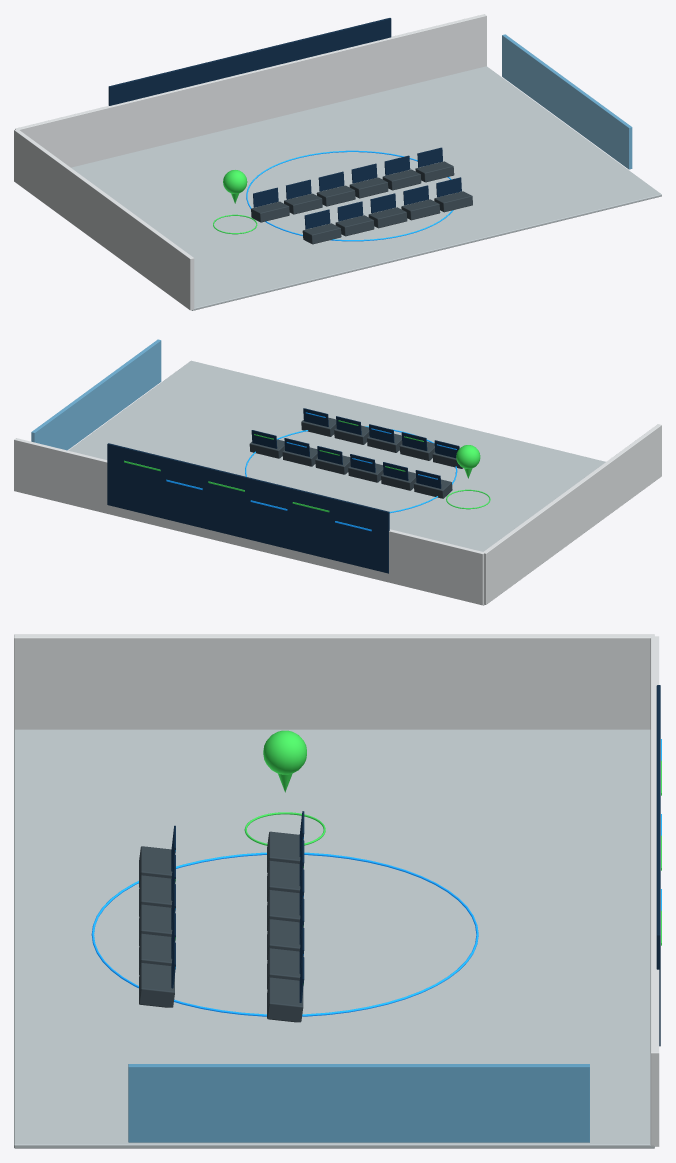
Rendered from inside-command-center.glb.
The picture shows the model from 3 angles, top to bottom: view 1: azimuth 30°, elevation 25°; view 2: azimuth 150°, elevation 25°; view 3: azimuth 270°, elevation 25°; orthographic projection. The views are drawn at different scales.
Parts seen in each view (by area): view 1: inside command center floor plate, inside command center rear wall, inside command center left wall, inside command center right glass wall, command center rear video wall, command status floor ring, command front console row console desk 1, command rear console row console desk 1, command front console row console desk 3, command front console row console desk 2, command rear console row console desk 2, command front console row console desk 4 (+6 smaller); view 2: inside command center floor plate, command center rear video wall, inside command center rear wall, inside command center left wall, inside command center right glass wall, command center agent focus marker pin head, command front console row console desk 1, command front console row console desk 4, command front console row console desk 3, command front console row console desk 5, command rear console row console desk 5, command rear console row console desk 4 (+4 smaller); view 3: inside command center floor plate, inside command center left wall, inside command center right glass wall, inside command center rear wall, command status floor ring, command center rear video wall, command center agent focus marker pin head, command front console row console desk 6, command rear console row console desk 5, command front console row console desk 4, command rear console row console desk 1, command rear console row console desk 3 (+6 smaller).
Boxes of the visible parts, box(x1,y1,x2,y2) form: inside command center floor plate: box(71, 66, 661, 310); inside command center rear wall: box(15, 14, 486, 167); inside command center left wall: box(14, 129, 194, 310); inside command center right glass wall: box(502, 34, 632, 169); command center rear video wall: box(108, 18, 391, 105); command status floor ring: box(246, 150, 453, 241); command front console row console desk 1: box(251, 201, 289, 222); command rear console row console desk 1: box(302, 223, 341, 244); command front console row console desk 3: box(316, 185, 355, 206); command front console row console desk 2: box(284, 193, 322, 214); command rear console row console desk 2: box(335, 215, 374, 236); command front console row console desk 4: box(349, 177, 388, 198); inside command center floor plate: box(68, 360, 605, 605); command center rear video wall: box(107, 443, 389, 573); inside command center rear wall: box(14, 438, 483, 605); inside command center left wall: box(483, 424, 661, 604); inside command center right glass wall: box(31, 339, 161, 450); command center agent focus marker pin head: box(456, 445, 480, 468); command front console row console desk 1: box(413, 479, 452, 498); command front console row console desk 4: box(315, 455, 350, 474); command front console row console desk 3: box(348, 463, 383, 482); command front console row console desk 5: box(282, 447, 317, 466); command rear console row console desk 5: box(301, 417, 336, 436); command rear console row console desk 4: box(334, 425, 369, 444); inside command center floor plate: box(14, 729, 654, 1148); inside command center left wall: box(14, 634, 654, 729); inside command center right glass wall: box(128, 1064, 589, 1142); inside command center rear wall: box(650, 636, 659, 1146); command status floor ring: box(91, 852, 478, 1016); command center rear video wall: box(656, 685, 660, 1046); command center agent focus marker pin head: box(263, 730, 306, 774); command front console row console desk 6: box(267, 977, 303, 1022); command rear console row console desk 5: box(139, 963, 174, 1007); command front console row console desk 4: box(267, 919, 300, 960); command rear console row console desk 1: box(139, 846, 172, 887); command rear console row console desk 3: box(139, 904, 172, 945).
Size of the model in its own units: 40.33 by 5.84 by 26.28.
